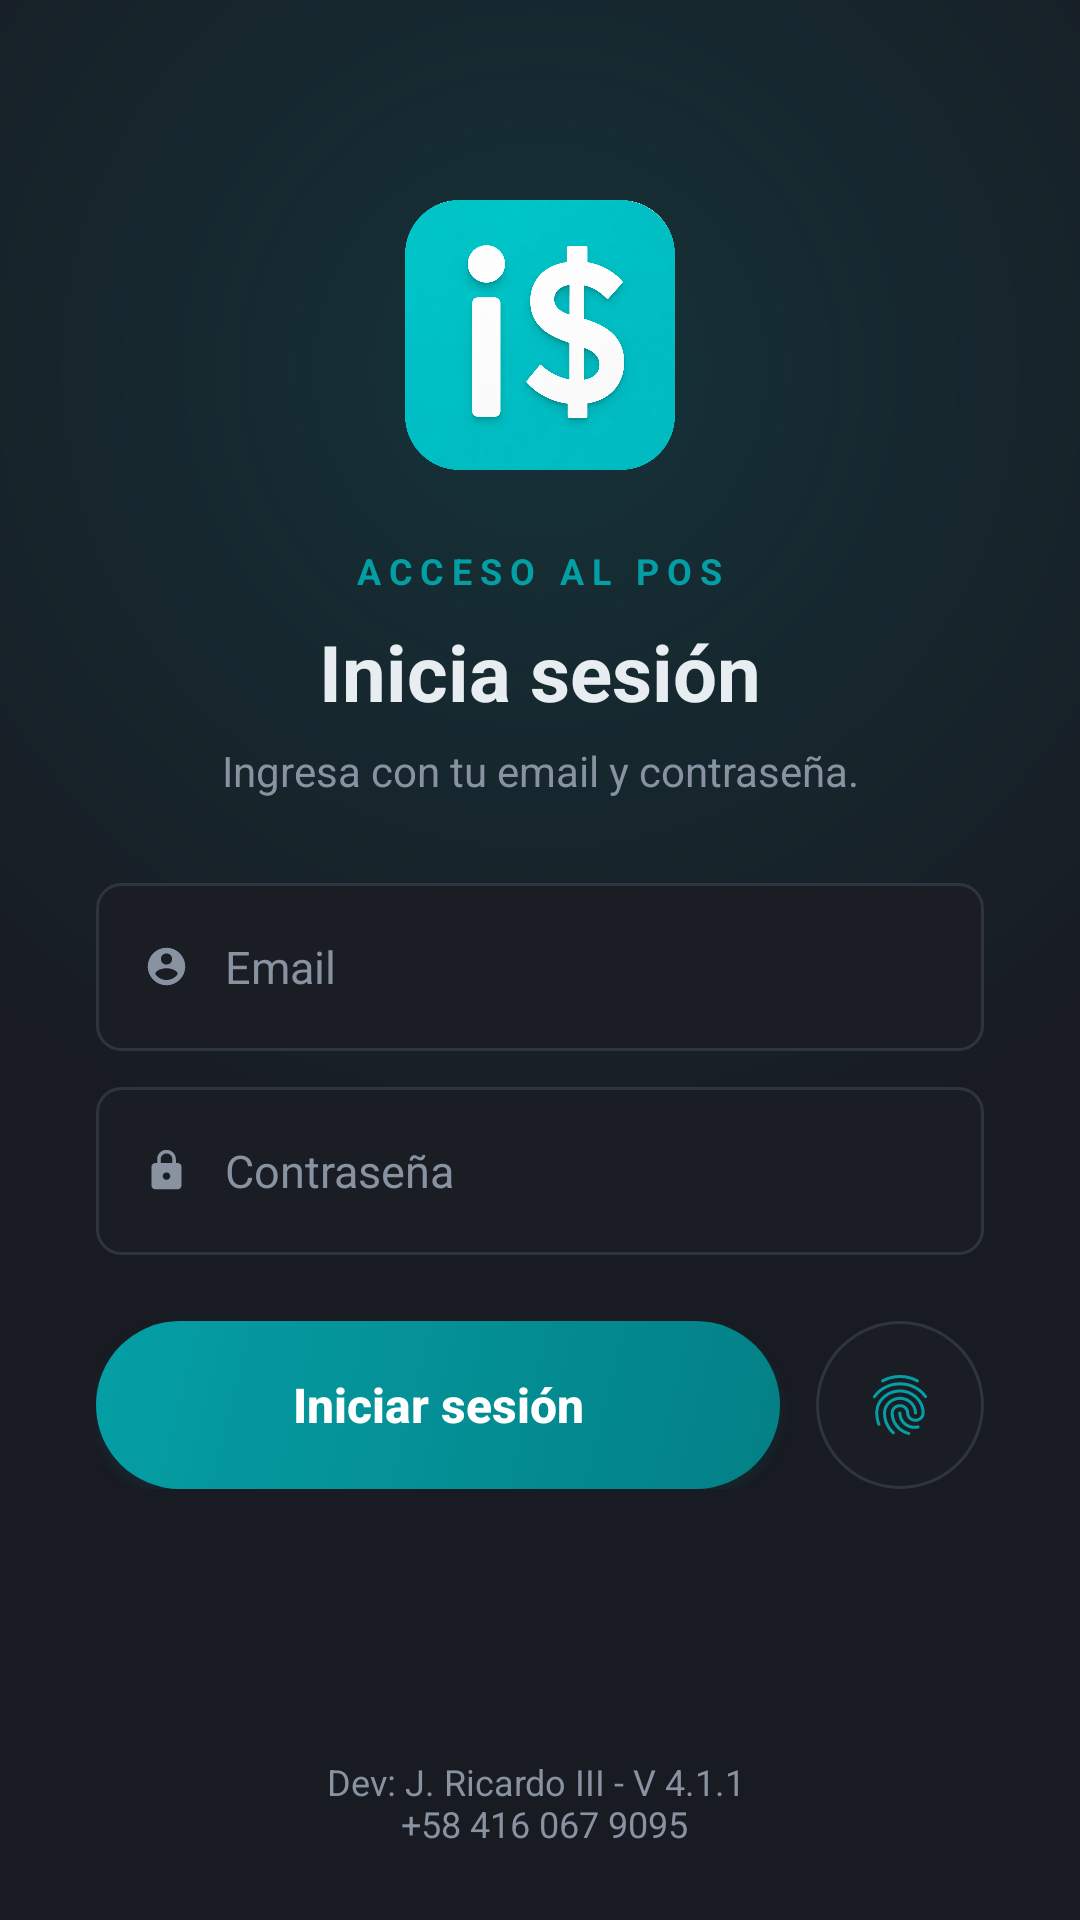

Locate icon controls on the screen. Image size 1080px×1920px, boxes as detection(x1, y1, x2, y2).
Inciar con huella: detection(816, 1321, 984, 1489)
